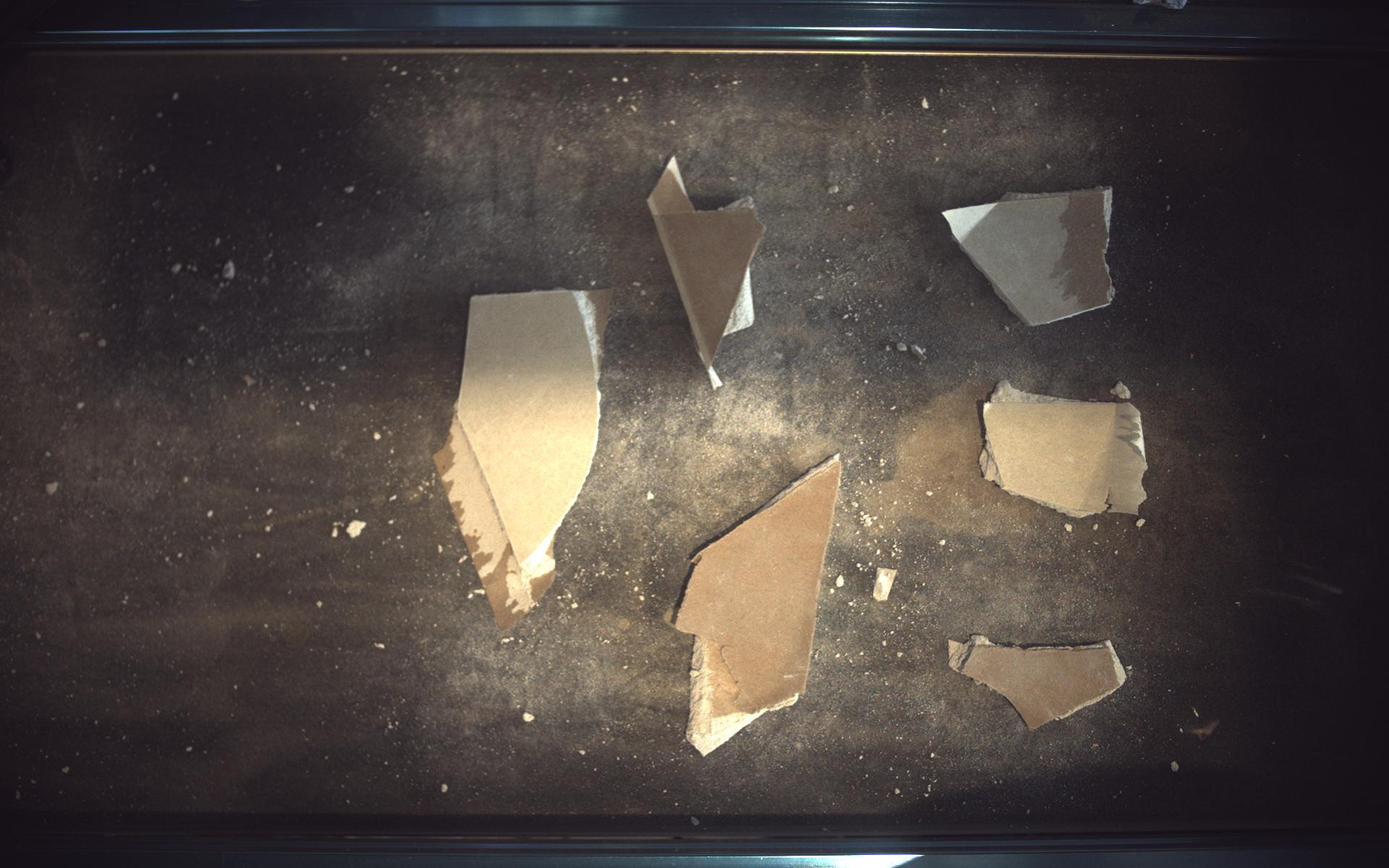gypsum_board: (434, 289, 611, 631), (676, 455, 844, 756), (648, 156, 765, 388), (945, 186, 1117, 326), (982, 380, 1150, 518), (952, 636, 1128, 731)
